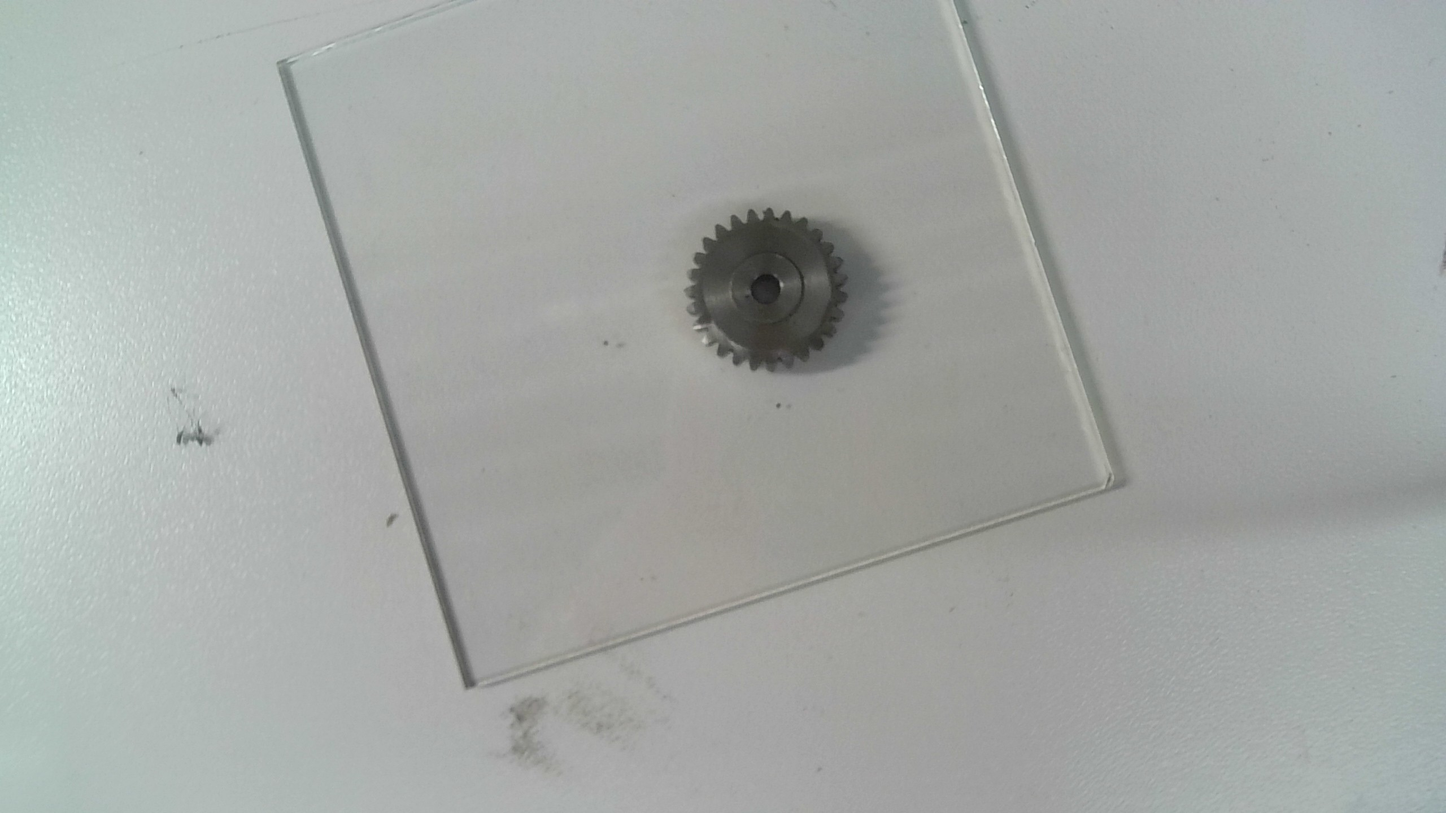gear: (681, 206, 851, 378)
